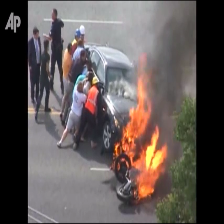fire_h: (114, 54, 169, 200)
fire_l: (116, 157, 129, 171)
